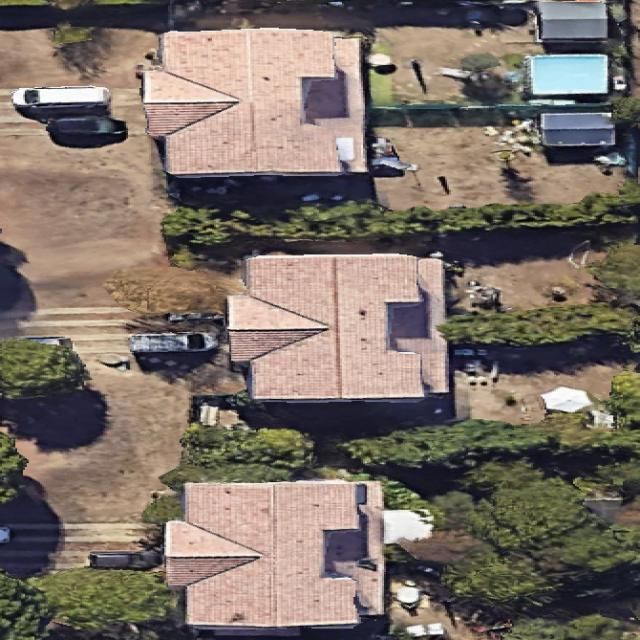maison: (164, 478, 385, 637), (139, 25, 363, 180), (227, 253, 446, 402)
